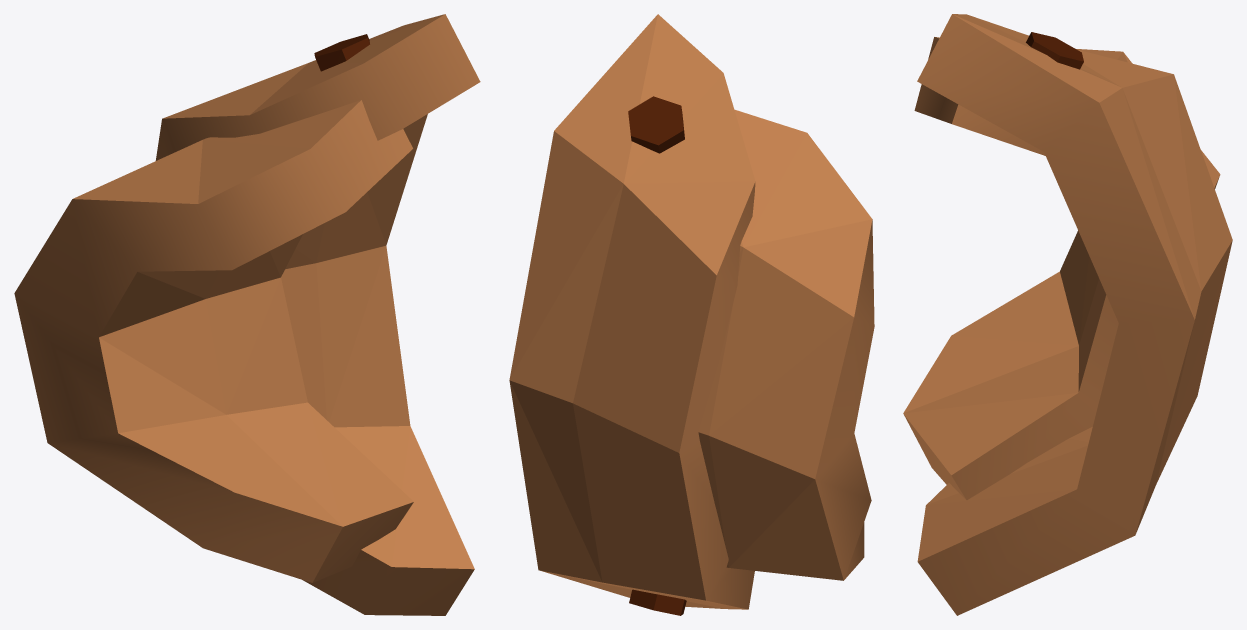
The model's file is Pauldron 09.FBX.
The picture shows the model from 3 angles, left to right: view 1: azimuth 30°, elevation 25°; view 2: azimuth 150°, elevation 25°; view 3: azimuth 270°, elevation 25°; orthographic projection. The views are drawn at different scales.
Visible parts, largest first — view 1: Pauldron 09; view 2: Pauldron 09; view 3: Pauldron 09.
Boxes of the visible parts, x1=… form: Pauldron 09: x1=14, y1=14, x2=480, y2=615; Pauldron 09: x1=509, y1=14, x2=874, y2=615; Pauldron 09: x1=903, y1=14, x2=1232, y2=615.
Bounding box in the file's own units: 13.65 × 23.8 × 11.83.
Materials: 1 (1 with a texture image).
